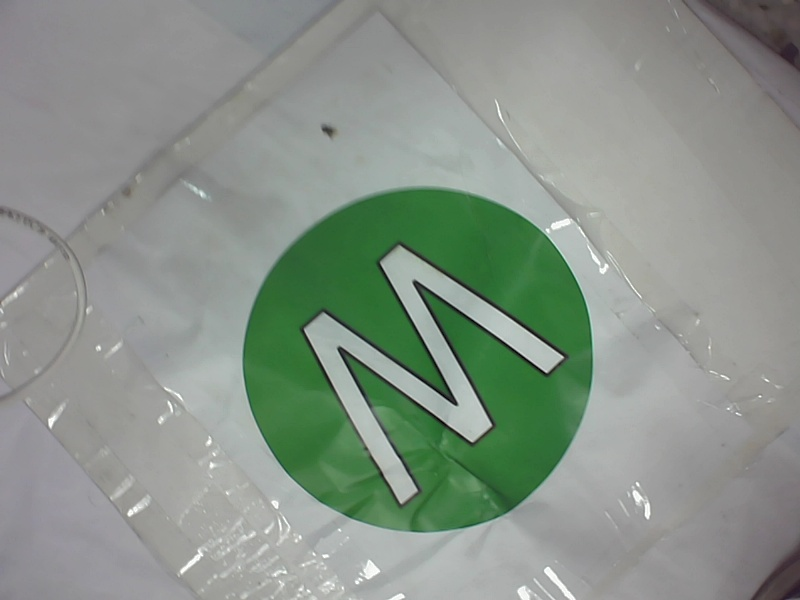areaB: (227, 189, 624, 544)
